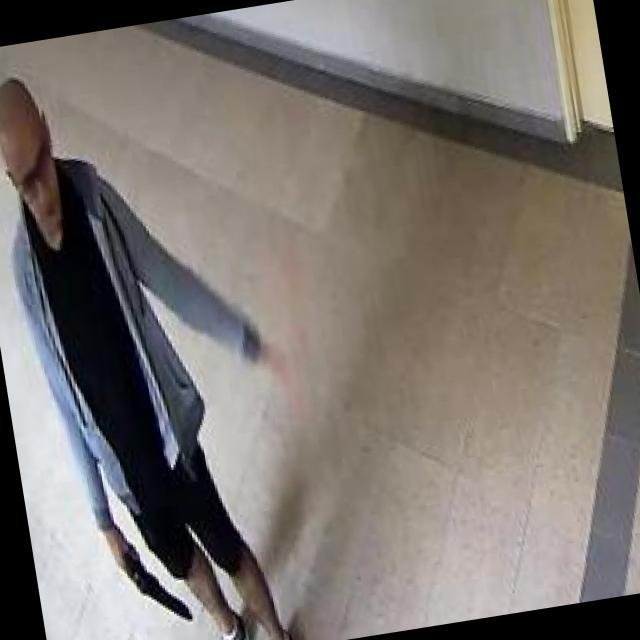Guns: (92, 507, 206, 640)
